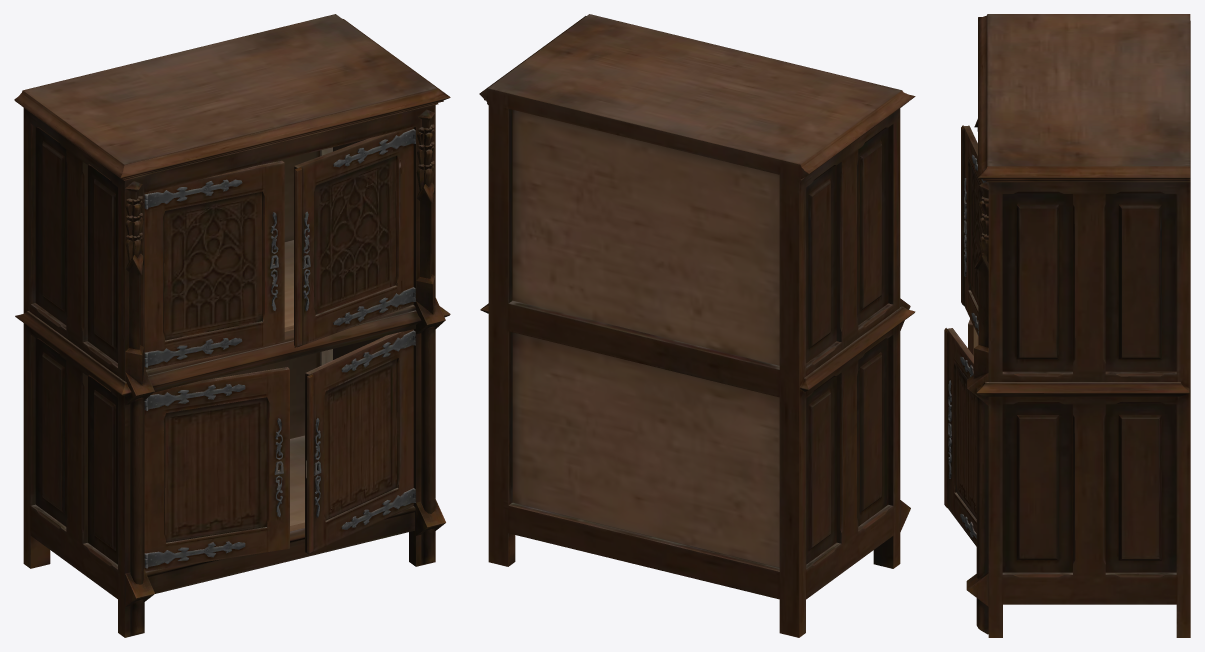
File: GothicCabinet_01.glb
The picture shows the model from 3 angles, left to right: view 1: azimuth 30°, elevation 25°; view 2: azimuth 150°, elevation 25°; view 3: azimuth 270°, elevation 25°; orthographic projection.
Parts seen in each view (by area): view 1: GothicCabinet_01_cabinet; view 2: GothicCabinet_01_cabinet; view 3: GothicCabinet_01_cabinet.
Boxes of the visible parts, box(x1,y1,x2,y2) form: GothicCabinet_01_cabinet: box(14, 14, 450, 637); GothicCabinet_01_cabinet: box(479, 14, 915, 637); GothicCabinet_01_cabinet: box(944, 14, 1190, 637).
Bounding box in the file's own units: 1.72 × 2.36 × 1.12.
Materials: 1 (1 with a texture image).
